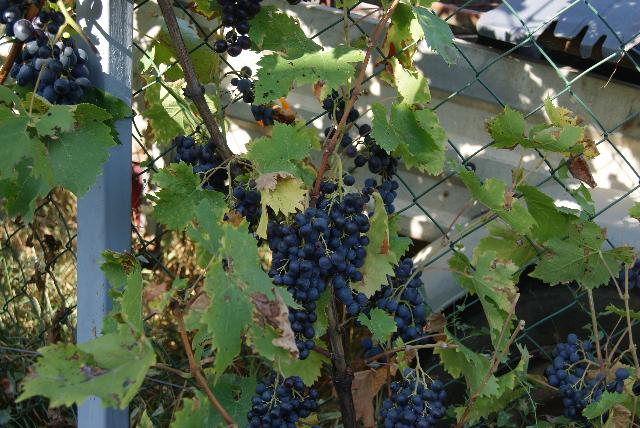grapes: (268, 208, 326, 360), (545, 334, 630, 426), (306, 192, 369, 315), (348, 259, 426, 344), (248, 372, 319, 428), (380, 368, 446, 428)
